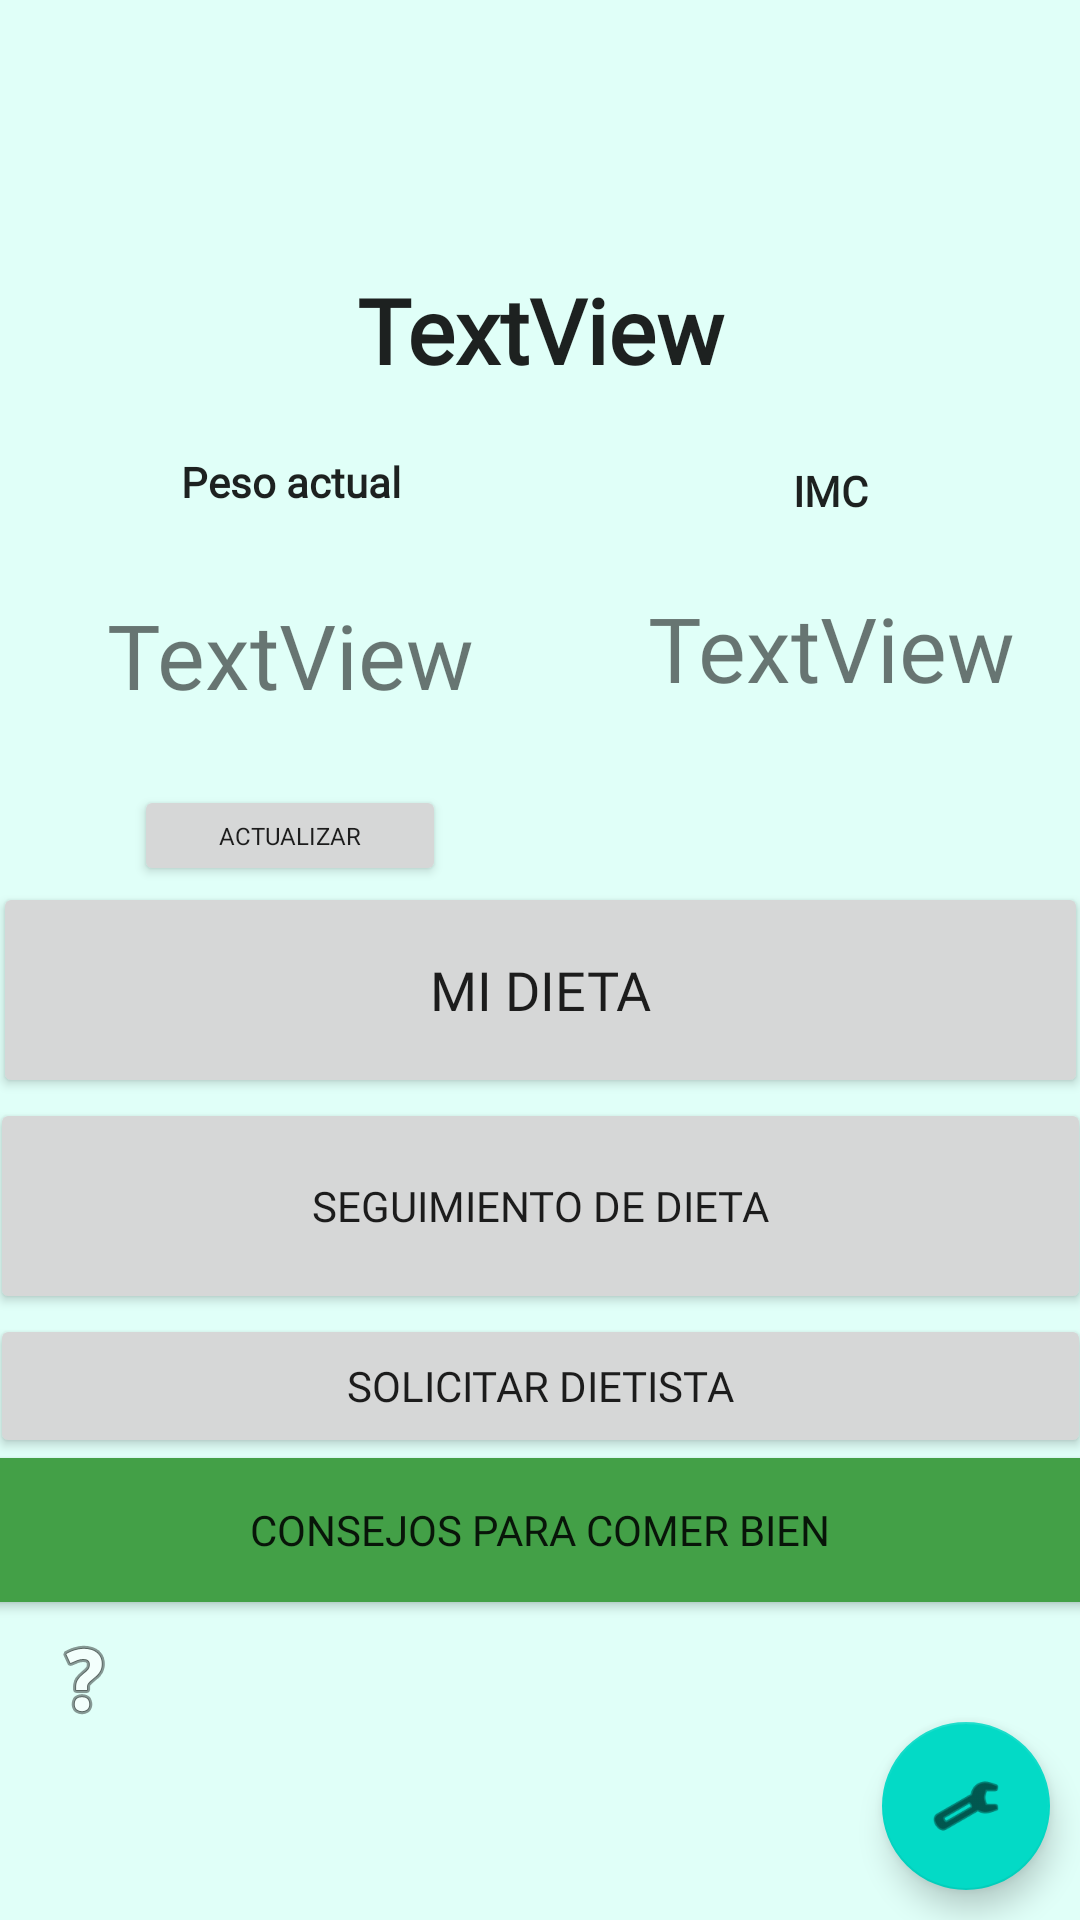

Where to tap for icons on this 1080w x 1920h app screen, as (x=x, y=y):
manage: (x=966, y=1806)
